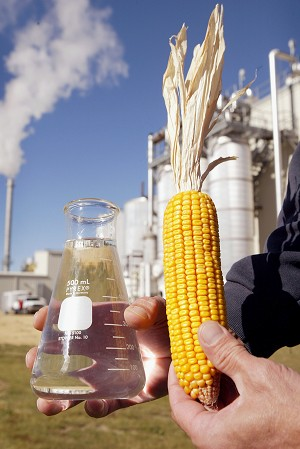corn: (160, 189, 229, 408)
